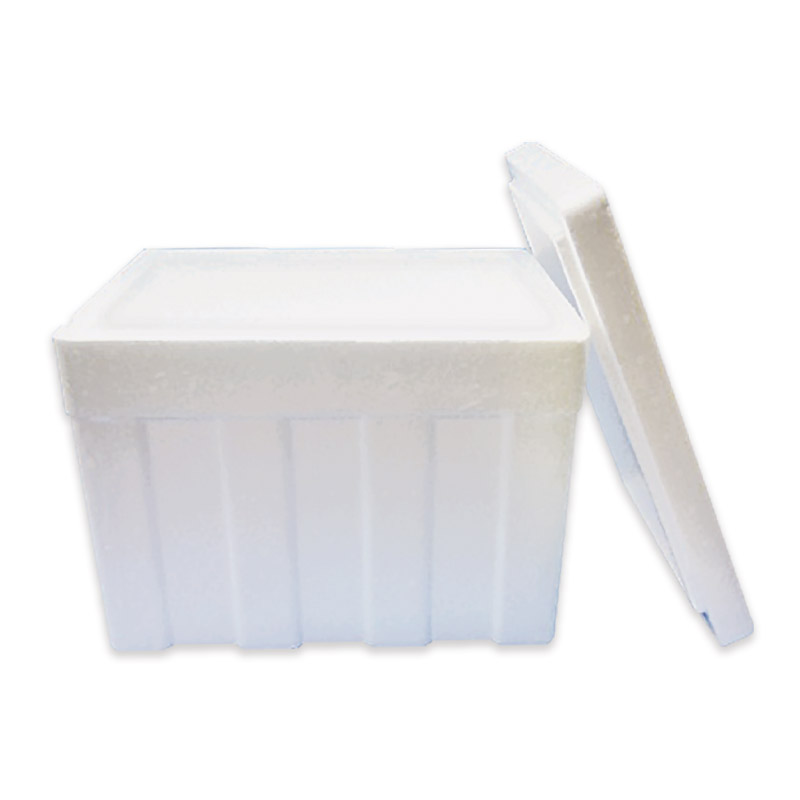Foam Box: (38, 134, 764, 667)
